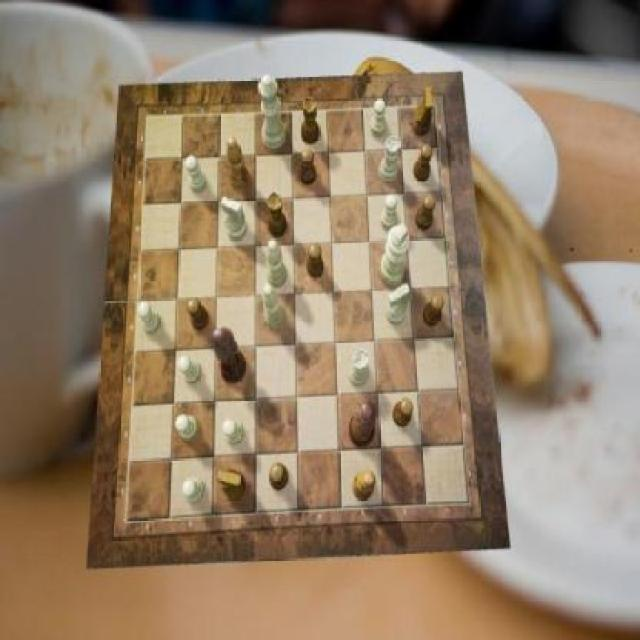bishop: (228, 137, 250, 191), (354, 471, 377, 502)
black-bishop: (211, 326, 246, 384)
black-king: (412, 86, 435, 137), (219, 471, 246, 502)
black-knight: (186, 297, 209, 331), (414, 145, 434, 182), (416, 196, 436, 232), (423, 294, 444, 328), (306, 243, 324, 279), (300, 149, 317, 187), (394, 400, 414, 428), (270, 463, 288, 491)
black-pawn: (349, 397, 377, 448)
black-queen: (268, 192, 288, 238), (300, 97, 320, 143)
black-rook: (261, 283, 284, 329), (266, 240, 287, 289)
white-bishop: (380, 223, 410, 285)
white-king: (222, 195, 248, 241), (386, 283, 410, 325)
white-knight: (138, 302, 162, 336), (186, 155, 207, 193), (380, 192, 398, 230), (178, 356, 202, 384), (371, 98, 387, 138), (183, 477, 206, 503), (177, 414, 200, 440), (223, 418, 244, 444)
white-pawn: (259, 75, 286, 150)
white-queen: (378, 137, 401, 183), (348, 349, 368, 387)
